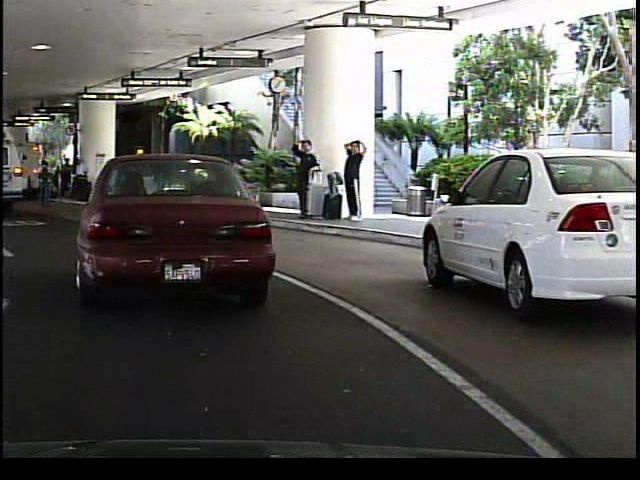person: (287, 133, 318, 216), (338, 135, 365, 223), (326, 149, 348, 217), (174, 154, 193, 194)
